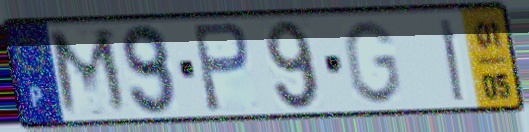9: (117, 21, 181, 119), (261, 17, 322, 114)
G: (340, 18, 405, 108)
I: (436, 16, 467, 105)
M: (45, 25, 134, 120)
P: (189, 19, 254, 115)
